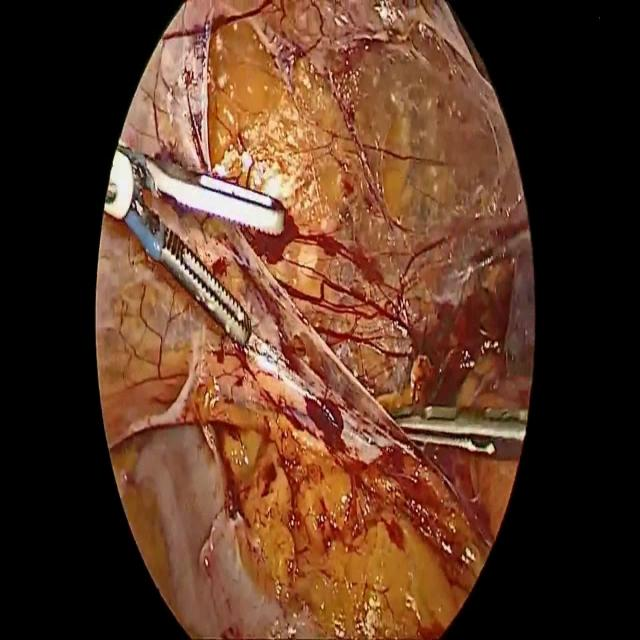surgical-area: (95, 0, 534, 639)
surgical-tool: (102, 141, 286, 346), (391, 404, 528, 455)
